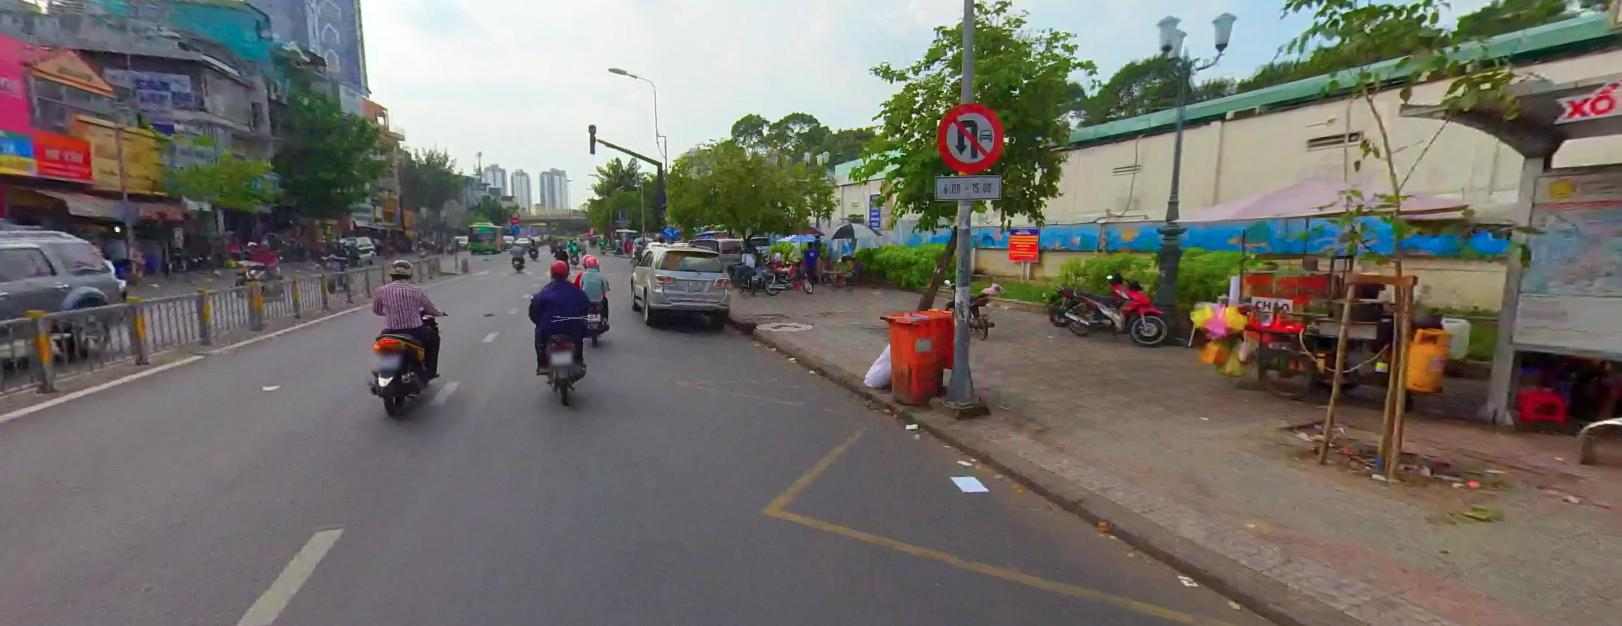Cam nguoc chieu: (510, 215, 518, 222)
Cam re: (939, 101, 1003, 172)
Hieu lenh: (510, 223, 518, 232)
